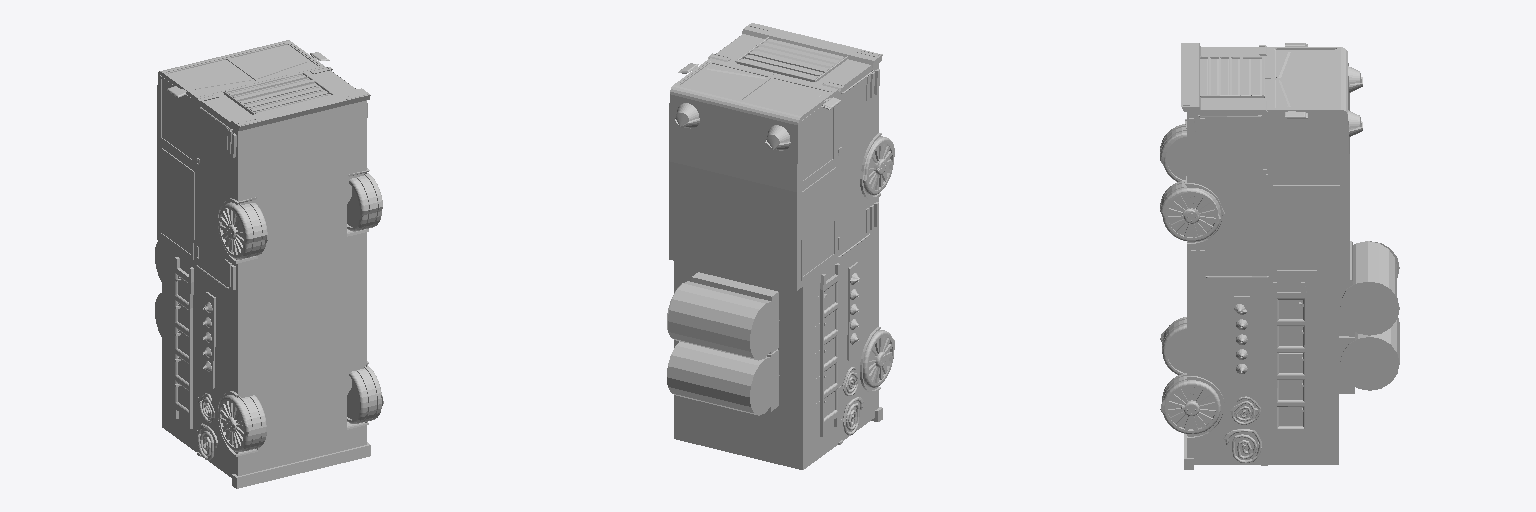
File: car.obj
3 renders of one model, left to right at view 1: azimuth 30°, elevation 25°; view 2: azimuth 150°, elevation 25°; view 3: azimuth 270°, elevation 25°, orthographic.
Visible parts, largest first — view 1: Cube; view 2: Cube; view 3: Cube.
Boxes of the visible parts, x1=… form: Cube: x1=155, y1=40, x2=383, y2=488; Cube: x1=667, y1=23, x2=894, y2=469; Cube: x1=1160, y1=43, x2=1399, y2=469.
Bounding box in the file's own units: 6.76 × 15.47 × 9.24.